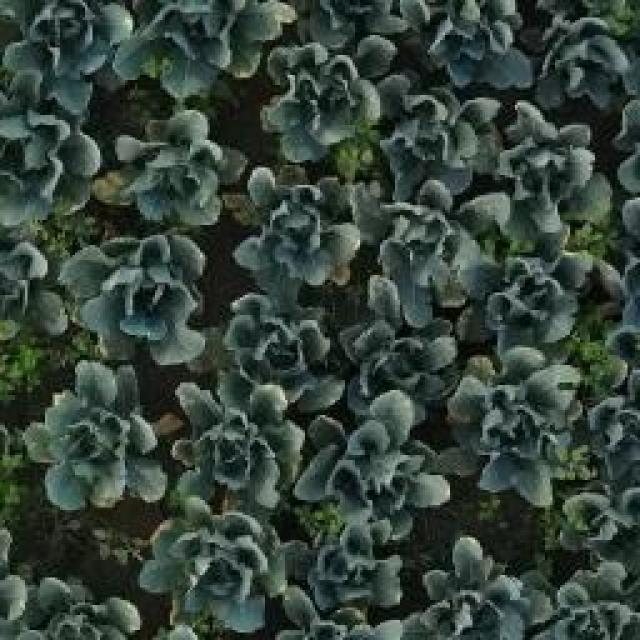cabbage: (13, 356, 170, 508), (441, 344, 586, 506), (53, 226, 212, 369), (132, 497, 281, 640), (297, 389, 452, 526), (366, 177, 501, 320), (233, 163, 379, 295), (263, 32, 397, 165), (210, 282, 348, 411), (493, 102, 620, 240), (107, 105, 248, 228), (463, 221, 596, 349), (377, 67, 505, 200), (132, 0, 286, 106), (407, 532, 555, 640), (0, 84, 105, 230), (334, 308, 467, 414), (0, 0, 132, 105), (404, 0, 541, 95), (531, 0, 640, 112), (304, 518, 416, 620), (187, 398, 275, 492)
